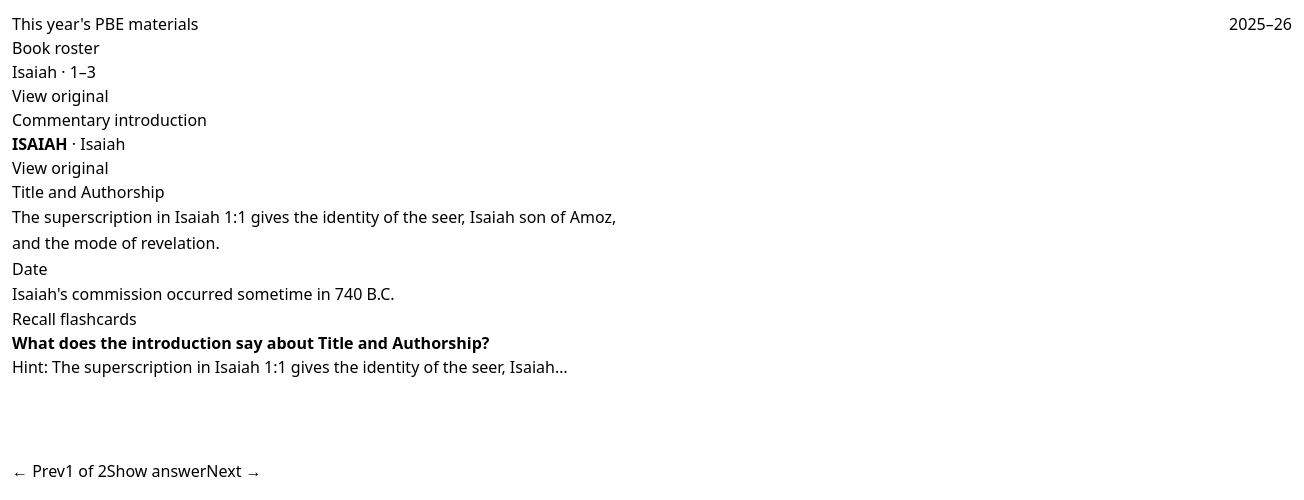
Scenario: flips flashcards through every section with prev/next
This screenshot has width=1304, height=500.
Expected: the element with test id "pbe-flashcard" shows "What does the introduction say about Title and Authorship?", x1=12 y1=332 x2=568 y2=378
Expected: the element with test id "pbe-flashcard" shows "Hint: The superscription in Isaiah 1:1 gives the identity of the seer,", x1=12 y1=332 x2=568 y2=378
What coordinates should you click on to do the following:
click the button "Show answer"
I would click on:
 (157, 471)
Its box is x1=107 y1=459 x2=206 y2=483.
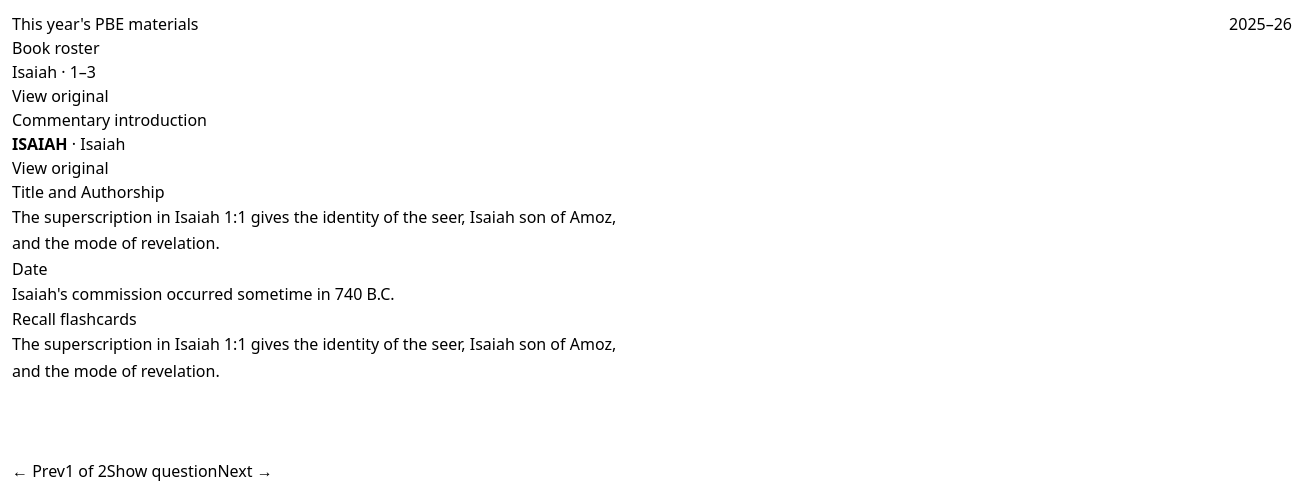
Result: the element with test id "pbe-flashcard" shows "The superscription in Isaiah 1:1 gives the identity of the seer, Isaiah son of Amoz, and the mode of revelation." at x1=12 y1=333 x2=620 y2=382
What coordinates should you click on to do the following:
click the button with aria-label "Next flashcard"
I would click on:
 (245, 471)
Its box is x1=218 y1=459 x2=273 y2=483.
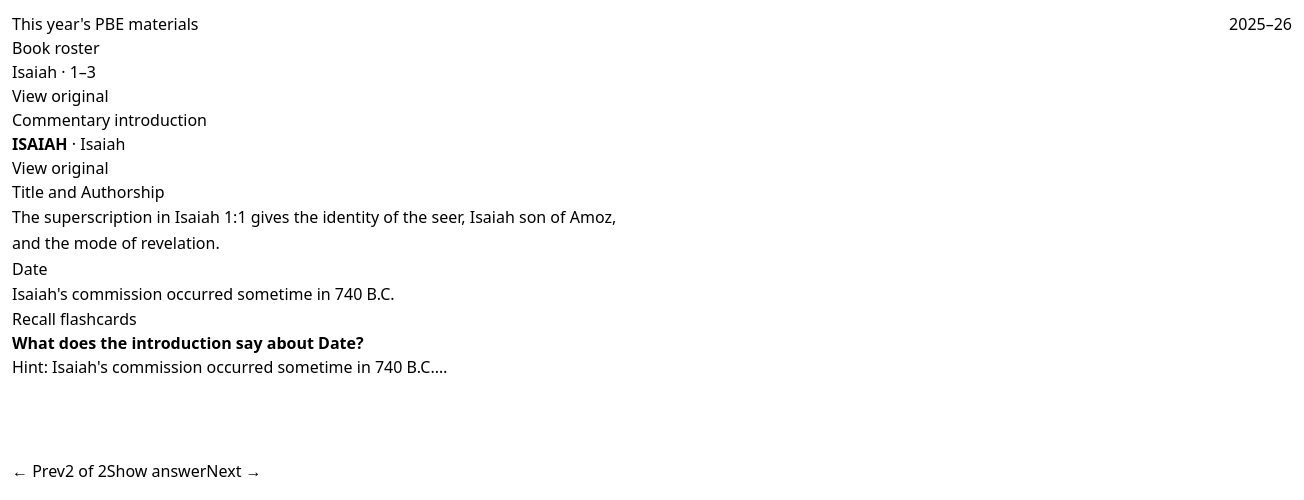
Result: the element with test id "pbe-flashcard" shows "What does the introduction say about Date?" at x1=12 y1=332 x2=447 y2=378
Result: the text "2 of 2" is shown at x1=65 y1=459 x2=107 y2=483
What coordinates should you click on to do the following:
click the button with aria-label "Previous flashcard"
I would click on:
 (38, 471)
Its box is x1=12 y1=459 x2=65 y2=483.
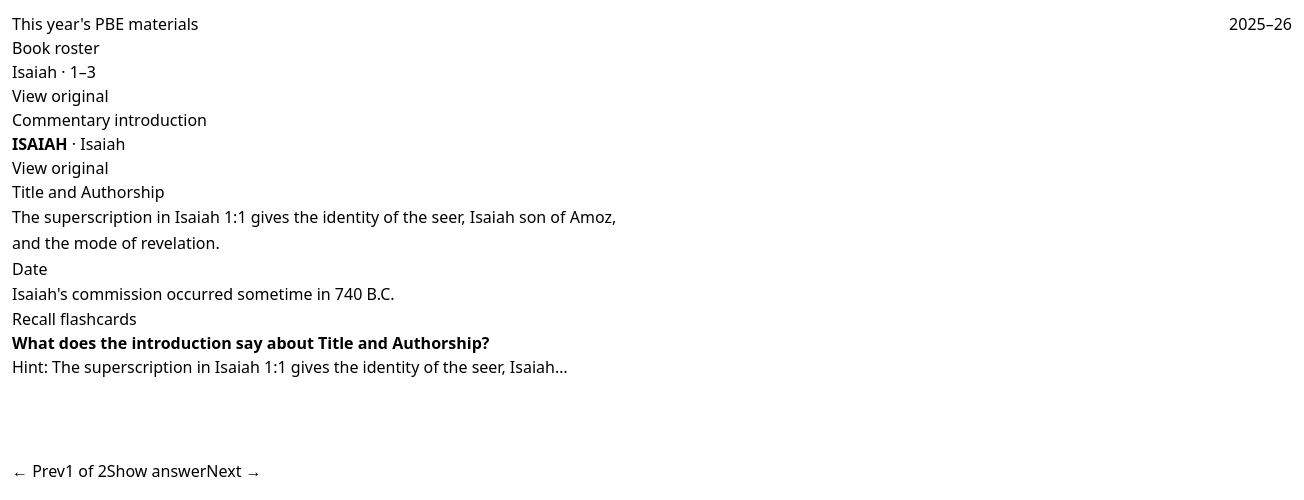
Result: the element with test id "pbe-flashcard" shows "What does the introduction say about Title and Authorship?" at x1=12 y1=332 x2=568 y2=378
